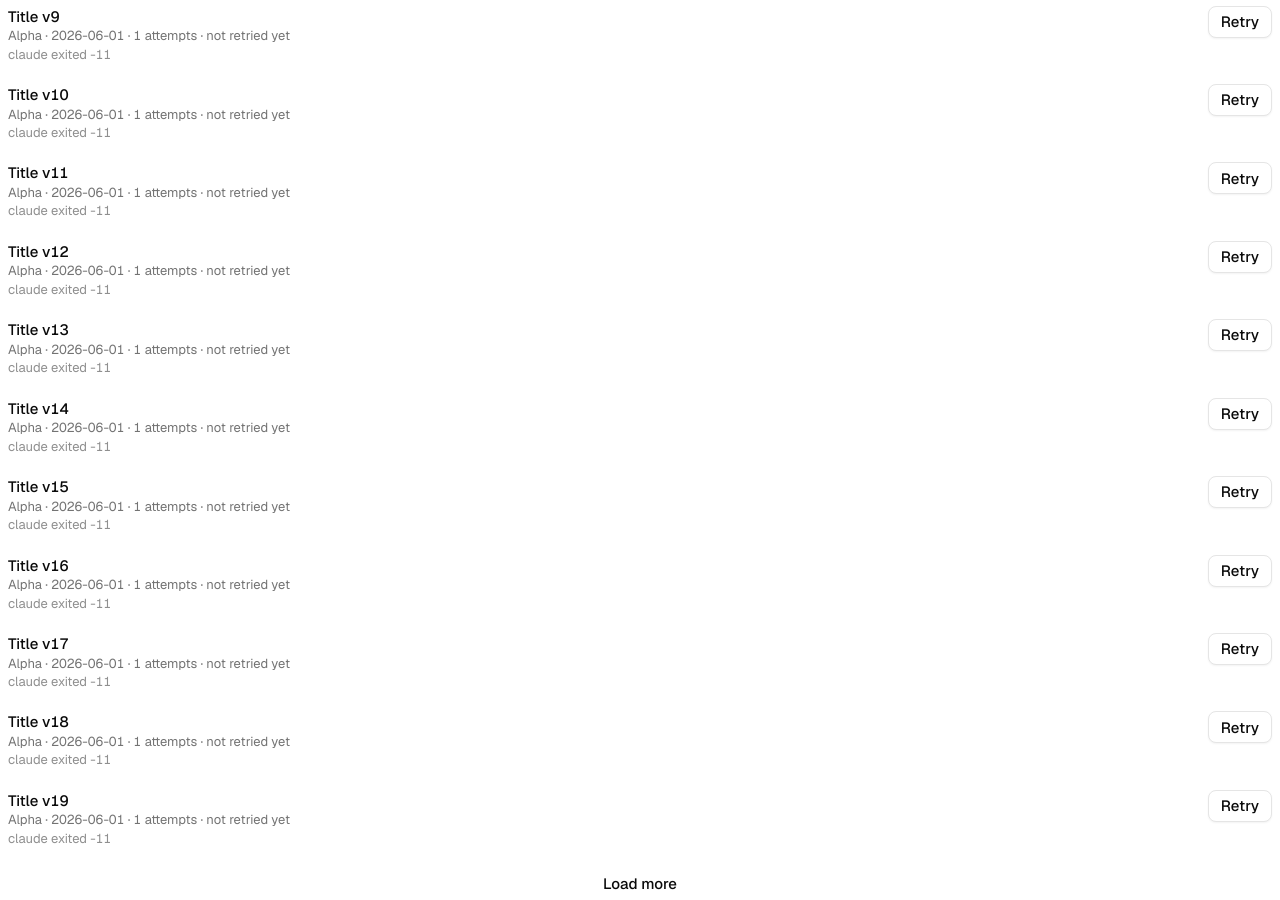
Test: FailedVideosList › keeps already-loaded rows visible when a later page fails
(page scrolled)
Click the button "Load more" at point(640, 884), box [591,868,689,899]
(page scrolled)
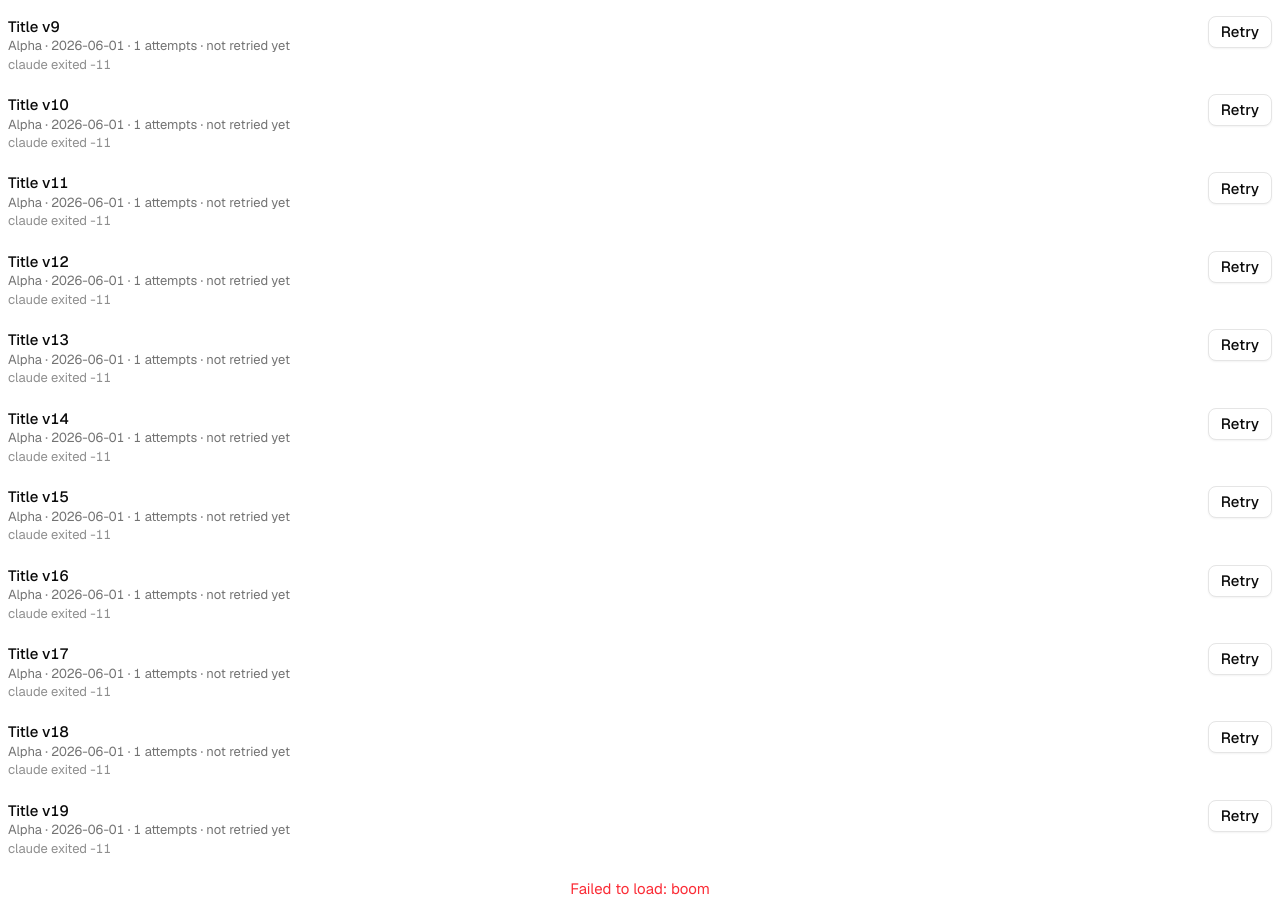
Check: the link "Title v19" is shown, box [8,801,69,820]
Check: the text "Failed to load: boom" is shown, box [570,879,710,898]
